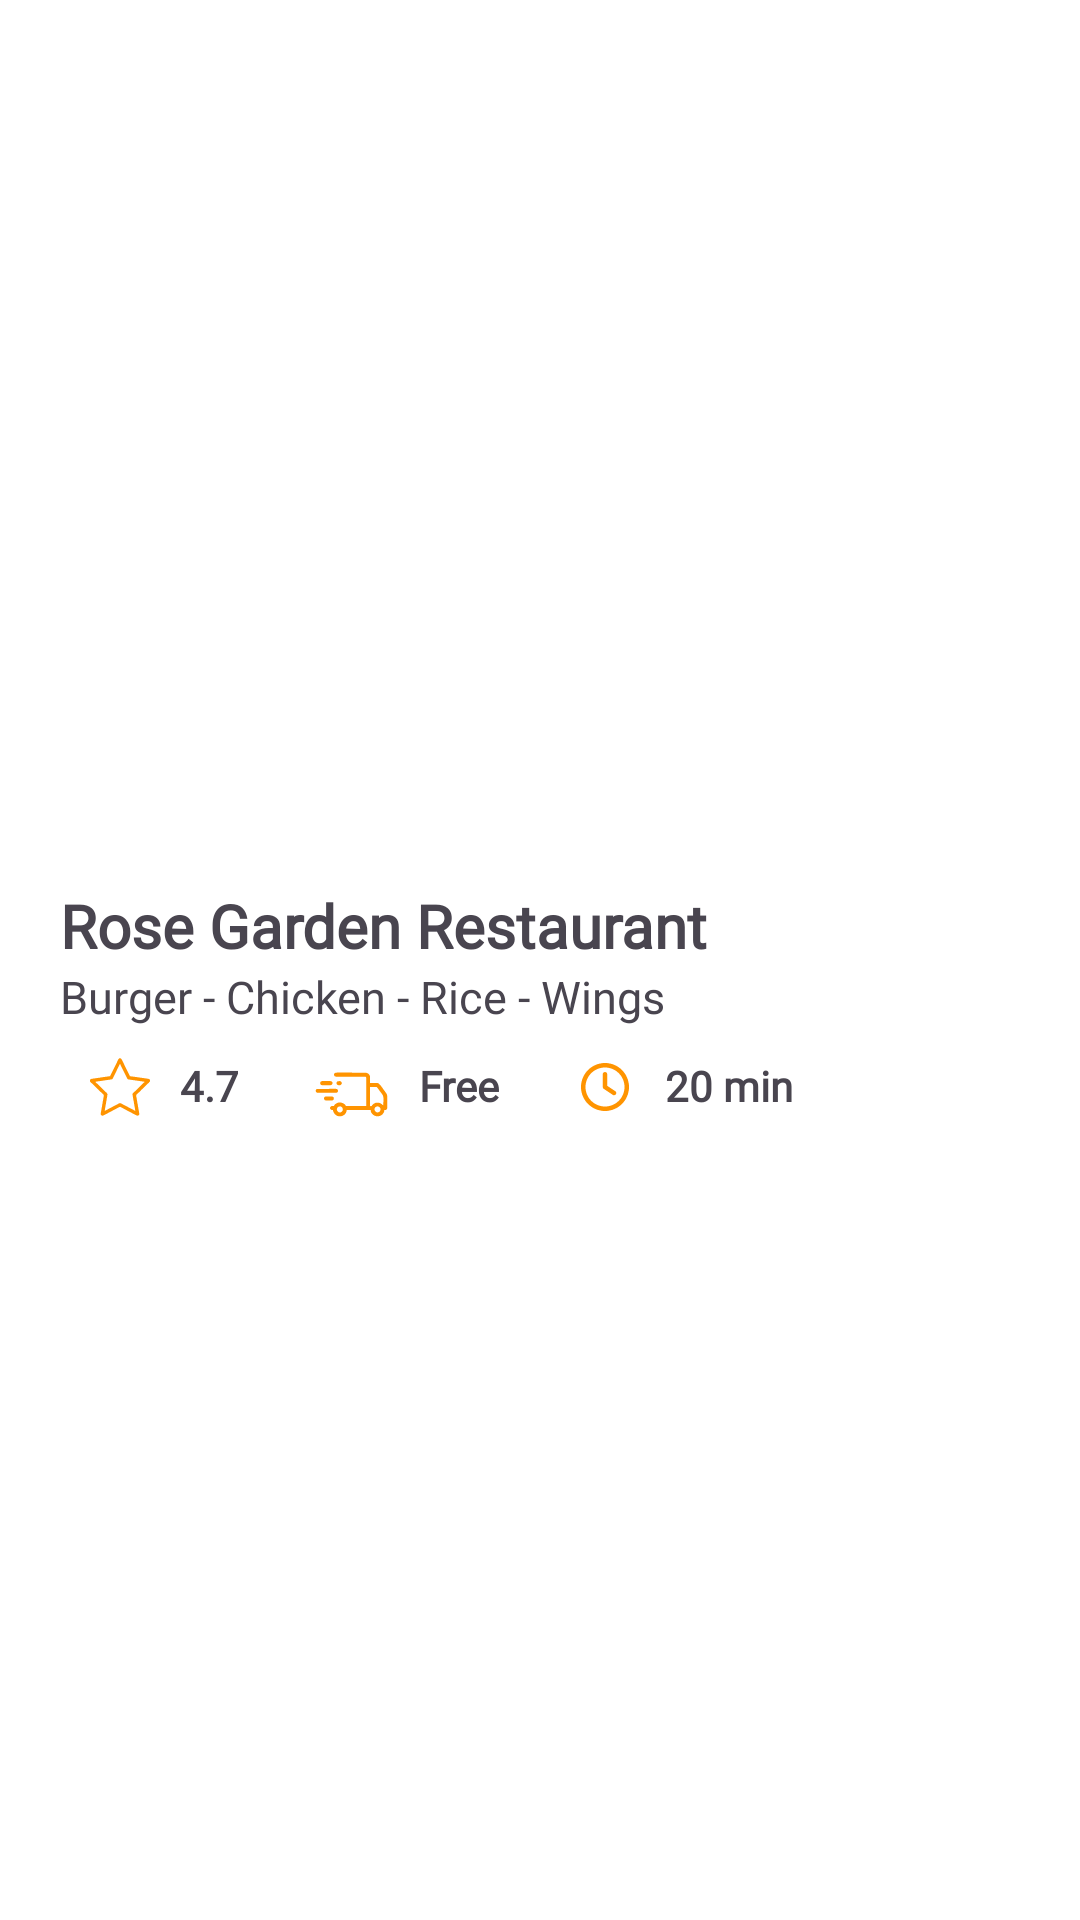

Icons on this 1080×1920 Android screen, each with the point to tap as (x=x, y=y):
star: (x=120, y=1087)
